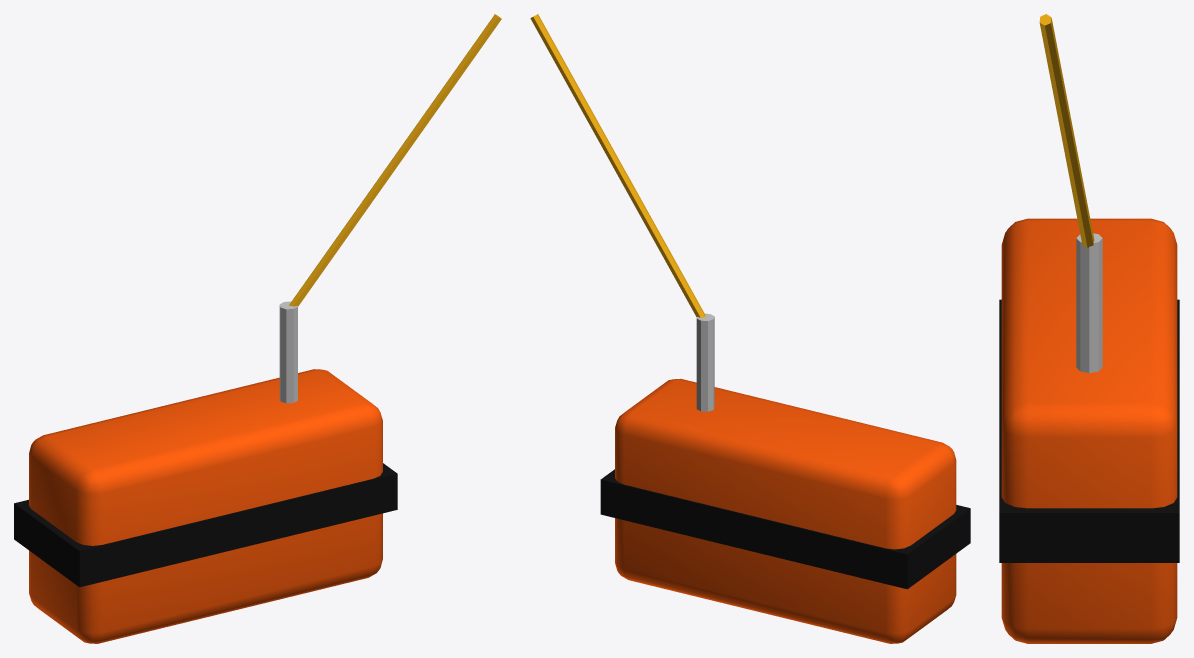
Rendered from demolition.charge.shaped.glb.
3 renders of one model, left to right at view 1: azimuth 30°, elevation 25°; view 2: azimuth 150°, elevation 25°; view 3: azimuth 270°, elevation 25°, orthographic. The views are drawn at different scales.
Parts seen in each view (by area): view 1: main__hivis_orange, main__plastic_black, main__plant_yellow, main__steel_stainless; view 2: main__hivis_orange, main__plastic_black, main__plant_yellow, main__steel_stainless; view 3: main__hivis_orange, main__plastic_black, main__steel_stainless, main__plant_yellow.
Part boxes in pixels (x1,y1,x2,y2): main__hivis_orange: [29, 369, 382, 643]; main__plastic_black: [14, 463, 397, 587]; main__plant_yellow: [289, 14, 501, 306]; main__steel_stainless: [279, 301, 297, 403]; main__hivis_orange: [615, 378, 956, 643]; main__plastic_black: [600, 469, 970, 589]; main__plant_yellow: [530, 14, 705, 317]; main__steel_stainless: [696, 313, 714, 411]; main__hivis_orange: [1001, 218, 1177, 643]; main__plastic_black: [999, 299, 1179, 562]; main__steel_stainless: [1076, 233, 1102, 372]; main__plant_yellow: [1039, 14, 1094, 248].
Bounding box in the file's own units: 0.3173 × 0.3619 × 0.082.
